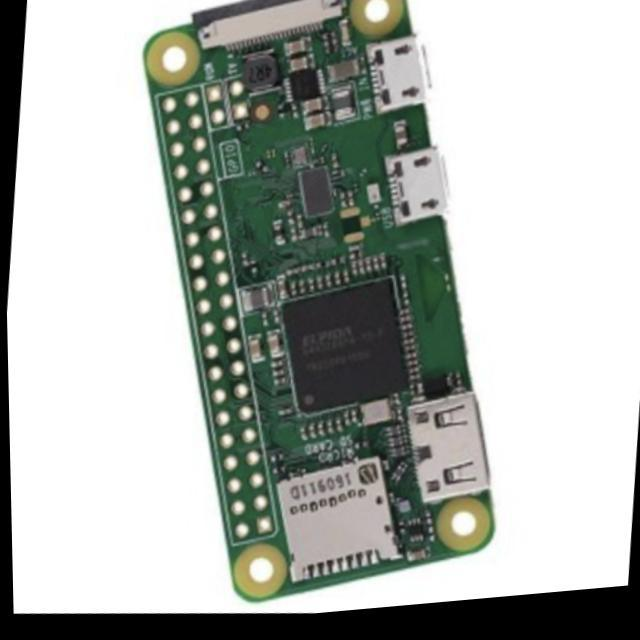Raspberry-Pi-Zero-W: (145, 1, 495, 602)
